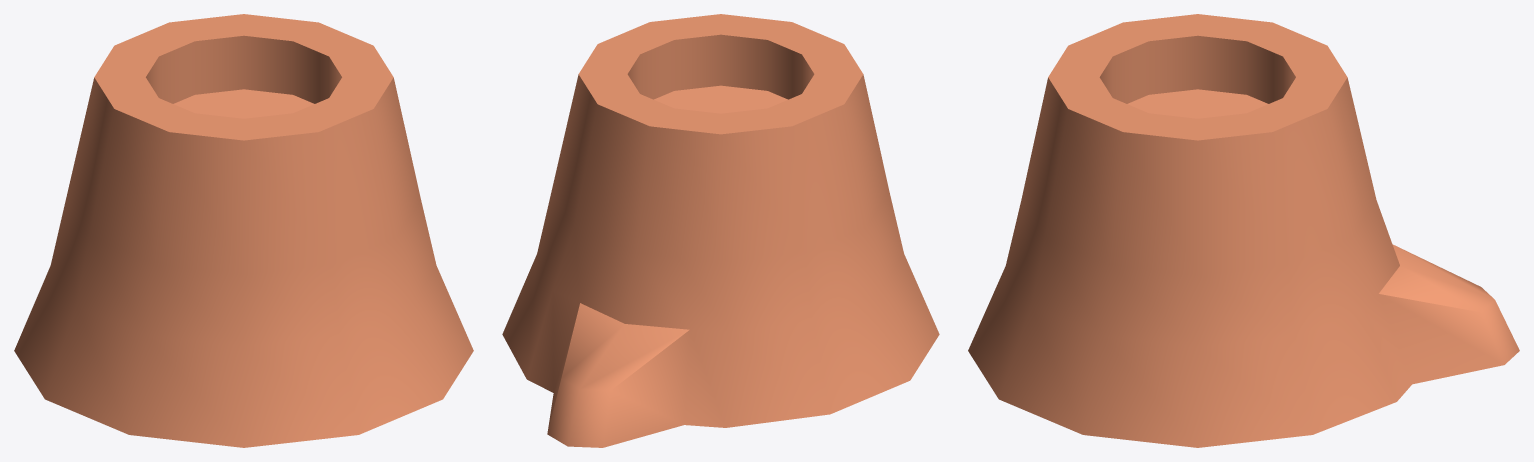
Rendered from Log_A.fbx.
3 views of the same model, side by side, from view 1: azimuth 30°, elevation 25°; view 2: azimuth 150°, elevation 25°; view 3: azimuth 270°, elevation 25° (orthographic). The views are drawn at different scales.
Visible parts, largest first — view 1: Log_A; view 2: Log_A; view 3: Log_A.
Boxes of the visible parts, x1,y1,x2,y2 form: Log_A: [14, 14, 473, 447]; Log_A: [502, 14, 939, 447]; Log_A: [968, 14, 1519, 447].
Size of the model in its own units: 107 by 70.17 by 128.
